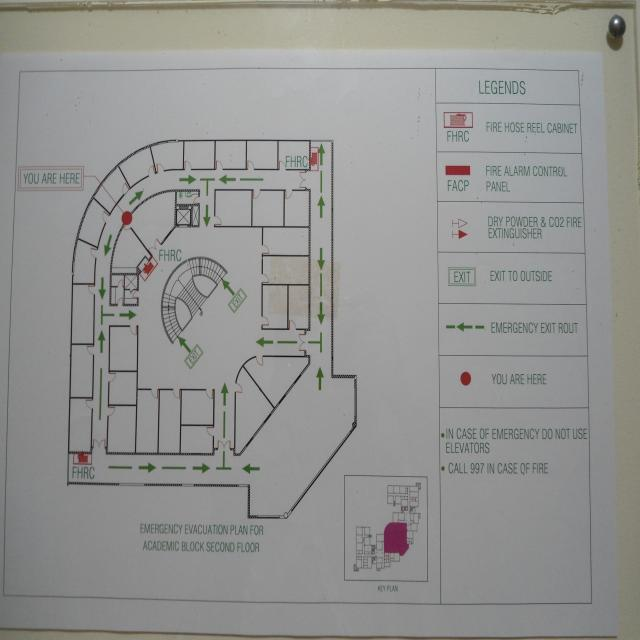sign: (0, 50, 618, 635)
